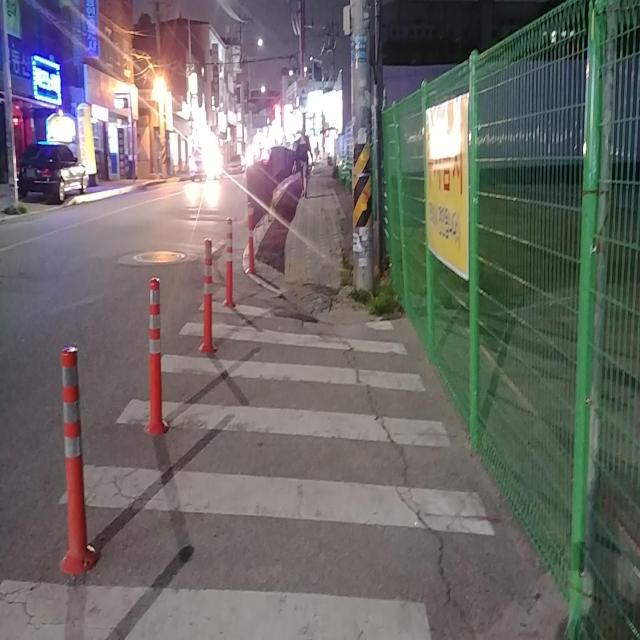횡단보도: (0, 299, 497, 639)
